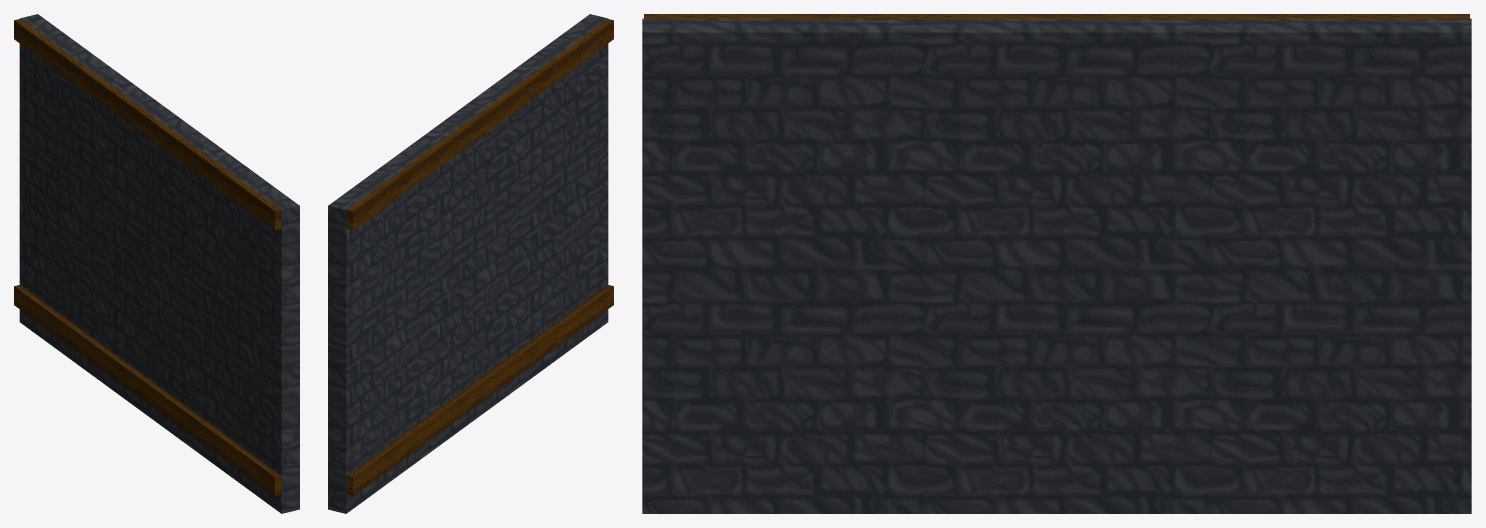
The model's file is Wand 5m V1.fbx.
3 views of the same model, side by side, from view 1: azimuth 30°, elevation 25°; view 2: azimuth 150°, elevation 25°; view 3: azimuth 270°, elevation 25° (orthographic). The views are drawn at different scales.
Visible parts, largest first — view 1: Cube.018; view 2: Cube.018; view 3: Cube.018.
Boxes of the visible parts, x1=… form: Cube.018: x1=14, y1=14, x2=299, y2=513; Cube.018: x1=328, y1=14, x2=613, y2=513; Cube.018: x1=642, y1=14, x2=1471, y2=513.
Size of the model in its own units: 26.77 by 500 by 320.
1 material, 1 textured.
